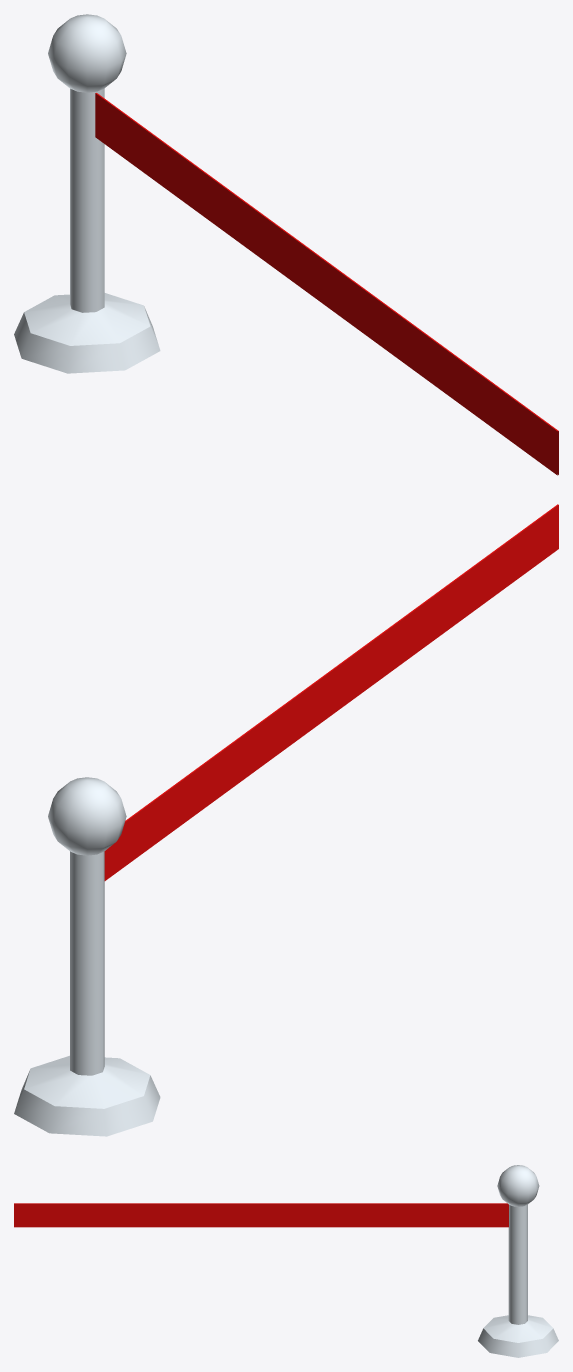
File: waiting column.FBX
3 renders of one model, top to bottom at view 1: azimuth 30°, elevation 25°; view 2: azimuth 150°, elevation 25°; view 3: azimuth 270°, elevation 25°, orthographic. The views are drawn at different scales.
Visible parts, largest first — view 1: Box1223, waiting column; view 2: waiting column, Box1223; view 3: Box1223, waiting column.
Part boxes in pixels (<box>): Box1223: <box>95,93,558,475</box>; waiting column: <box>14,14,160,373</box>; waiting column: <box>14,777,160,1136</box>; Box1223: <box>104,504,558,880</box>; Box1223: <box>14,1203,508,1227</box>; waiting column: <box>478,1165,558,1357</box>.
Bounding box in the file's own units: 0.6201 × 1.46 × 4.16.
